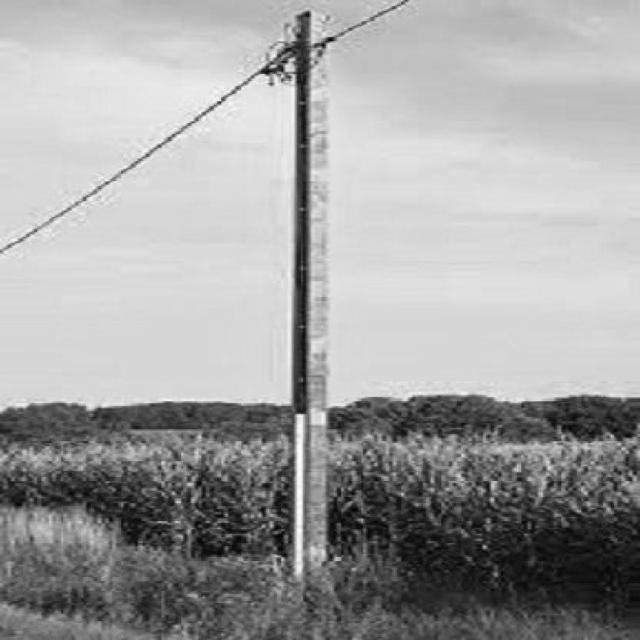Pole: (294, 11, 328, 583)
